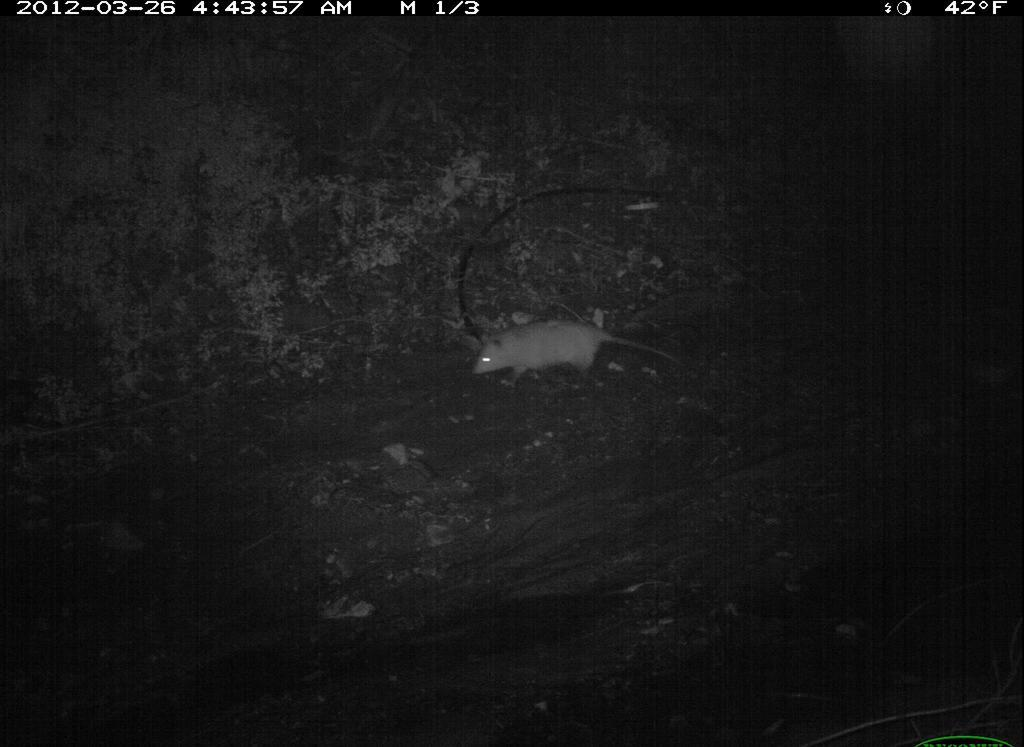opossum: (459, 321, 690, 402)
